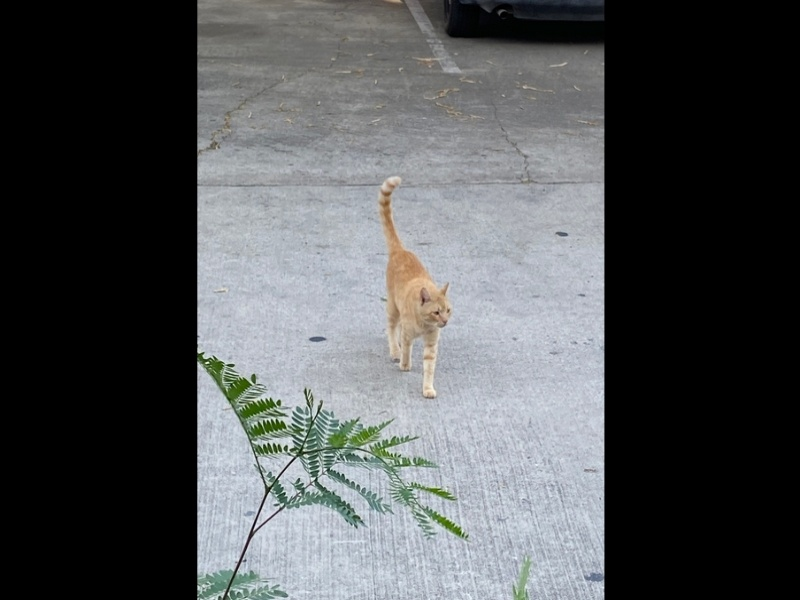cat: (371, 174, 457, 402)
